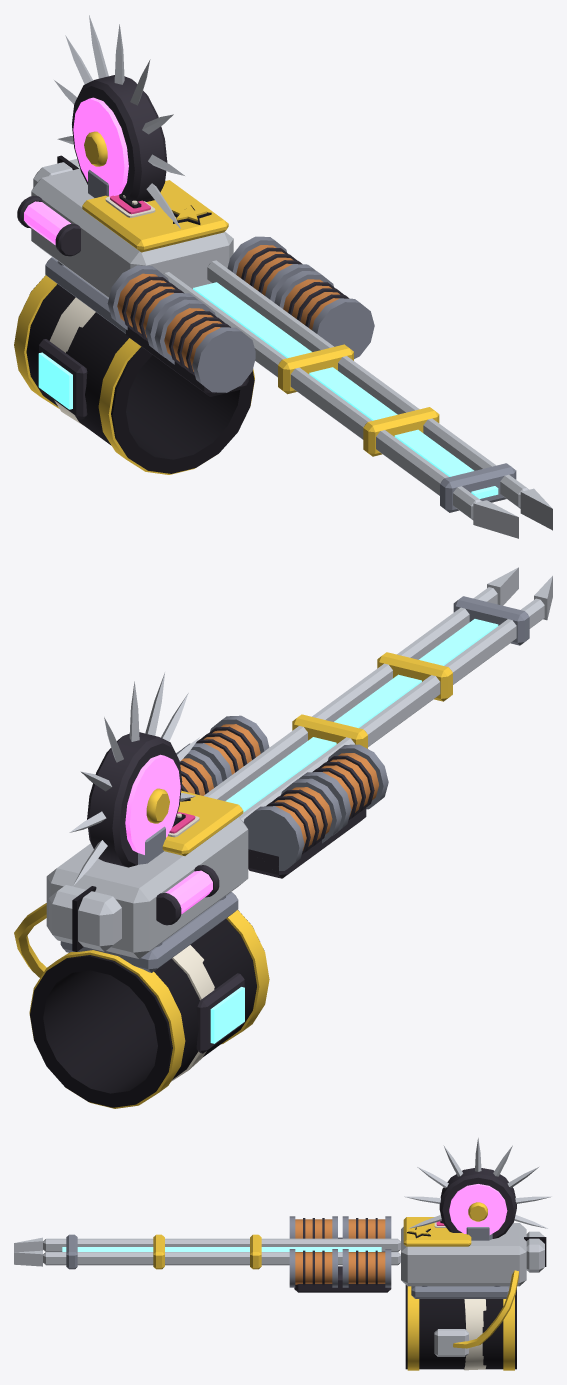
The model's file is needle_rail.glb.
3 views of the same model, one above another, from view 1: azimuth 30°, elevation 25°; view 2: azimuth 150°, elevation 25°; view 3: azimuth 270°, elevation 25° (orthographic). The views are drawn at different scales.
Parts seen in each view (by area): view 1: Weapon; view 2: Weapon; view 3: Weapon.
Part boxes in pixels (x1,y1,x2,y2): Weapon: (14, 15, 552, 538); Weapon: (14, 567, 552, 1108); Weapon: (14, 1138, 551, 1370).
Bounding box in the file's own units: 0.1263 × 0.2607 × 0.5573.
